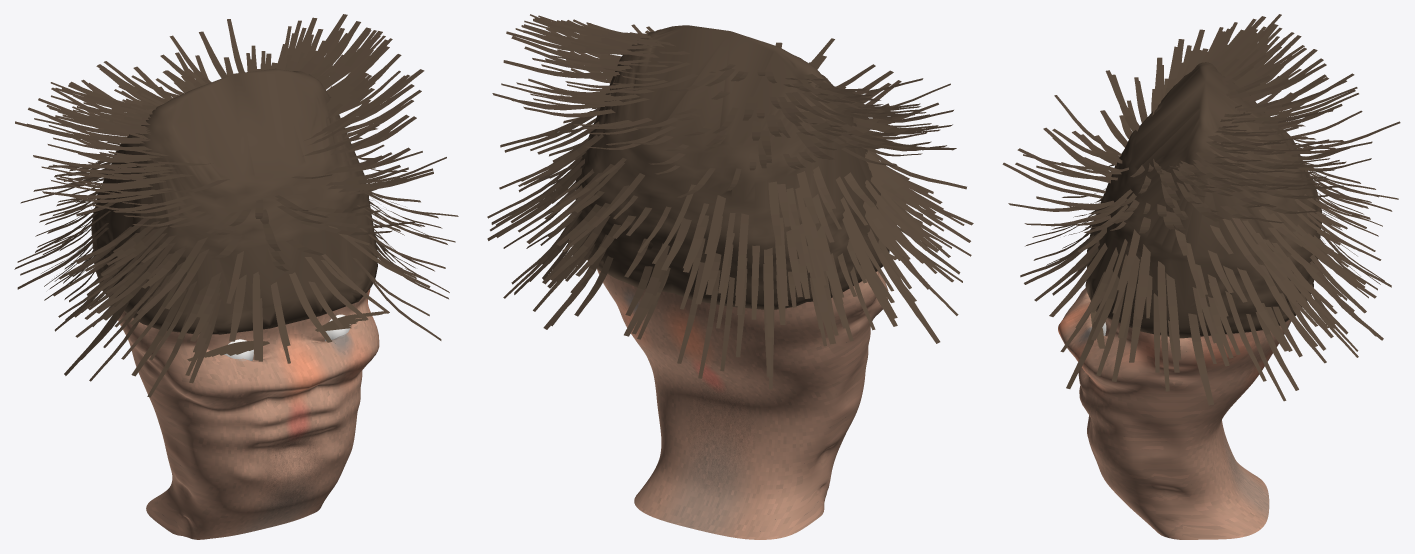
Rendered from TLS_tom_head_v3.glb.
3 renders of one model, left to right at view 1: azimuth 30°, elevation 25°; view 2: azimuth 150°, elevation 25°; view 3: azimuth 270°, elevation 25°, orthographic. The views are drawn at different scales.
Visible parts, largest first — view 1: TLS_tom_HairCap, TLS_tom_Head, card.200, card.054, card.079, card.048, card.190; view 2: TLS_tom_Head, TLS_tom_HairCap, card.091, card.147, card.229, card.157, card.037, card.063, card.171, card.272; view 3: TLS_tom_Head, TLS_tom_HairCap, card.029, card.117, card.153, card.140, card.142, card.184, card.154, card.116, card.295, card.083 (+5 smaller).
Part boxes in pixels (x1=…): TLS_tom_HairCap: x1=91, y1=68, x2=377, y2=334; TLS_tom_Head: x1=118, y1=288, x2=379, y2=539; card.200: x1=142, y1=237, x2=207, y2=310; card.054: x1=131, y1=289, x2=187, y2=376; card.079: x1=229, y1=274, x2=246, y2=341; card.048: x1=289, y1=272, x2=332, y2=342; card.190: x1=96, y1=242, x2=175, y2=313; TLS_tom_Head: x1=597, y1=269, x2=888, y2=539; TLS_tom_HairCap: x1=575, y1=25, x2=889, y2=309; card.091: x1=624, y1=243, x2=669, y2=336; card.147: x1=764, y1=247, x2=773, y2=337; card.229: x1=735, y1=213, x2=748, y2=295; card.157: x1=817, y1=225, x2=843, y2=304; card.037: x1=698, y1=270, x2=720, y2=378; card.063: x1=677, y1=262, x2=704, y2=363; card.171: x1=842, y1=211, x2=894, y2=302; card.272: x1=795, y1=187, x2=821, y2=277; TLS_tom_Head: x1=1058, y1=287, x2=1291, y2=539; TLS_tom_HairCap: x1=1085, y1=62, x2=1321, y2=338; card.029: x1=1188, y1=313, x2=1213, y2=405; card.117: x1=1166, y1=273, x2=1181, y2=360; card.153: x1=1237, y1=267, x2=1289, y2=351; card.140: x1=1118, y1=255, x2=1139, y2=337; card.142: x1=1158, y1=261, x2=1166, y2=349; card.184: x1=1137, y1=244, x2=1150, y2=319; card.154: x1=1259, y1=264, x2=1317, y2=347; card.116: x1=1049, y1=243, x2=1107, y2=316; card.295: x1=1222, y1=219, x2=1275, y2=286; card.083: x1=1225, y1=291, x2=1266, y2=381.
Size of the model in its own units: 0.26 by 0.2742 by 0.2334.
7 materials, 1 textured.
